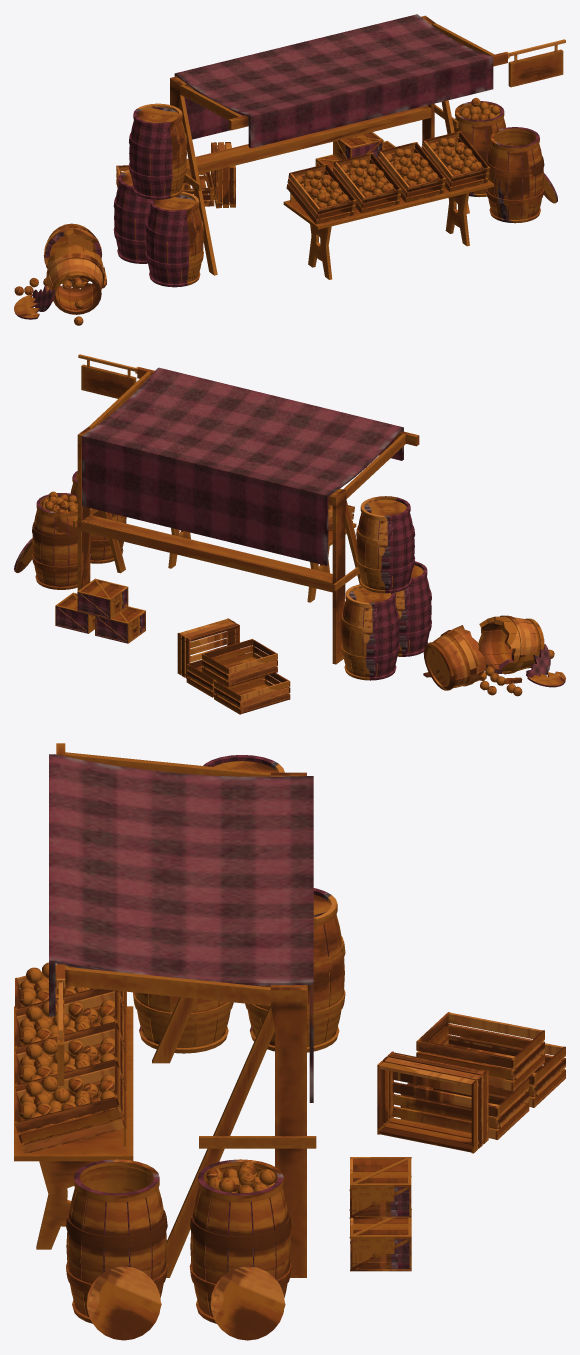
File: Concept_3.fbx
The picture shows the model from 3 angles, top to bottom: view 1: azimuth 30°, elevation 25°; view 2: azimuth 150°, elevation 25°; view 3: azimuth 270°, elevation 25°; orthographic projection. The views are drawn at different scales.
Visible parts, largest first — view 1: Cube.110, Circle.068, Circle.073, Circle.067, Circle.071, Cube.109, Circle.066, Cube.111, Cube.122, Cube.124, Cube.126, Circle.069 (+6 smaller); view 2: Cube.110, Circle.071, Circle.068, Circle.066, Circle.069, Cube.115, Circle.067, Cube.114, Cube.112, Cube.111, Cube.118, Cube.120 (+6 smaller); view 3: Cube.110, Circle.073, Circle.069, Cube.112, Cube.115, Cube.109, Circle.066, Cube.128, Circle.070, Circle.074, Circle.067, Cube.113 (+10 smaller).
Part boxes in pixels (x1,y1,x2,y2): Cube.110: (170, 14, 507, 275); Circle.068: (129, 103, 187, 199); Circle.073: (486, 127, 544, 223); Circle.067: (145, 191, 203, 287); Circle.071: (43, 223, 106, 314); Cube.109: (283, 180, 493, 279); Circle.066: (113, 170, 150, 263); Cube.111: (505, 39, 565, 87); Cube.122: (286, 163, 356, 224); Cube.124: (333, 152, 401, 213); Cube.126: (377, 142, 446, 202); Circle.069: (453, 101, 505, 197); Cube.110: (73, 367, 419, 664); Circle.071: (423, 615, 544, 690); Circle.068: (356, 496, 415, 593); Circle.066: (341, 584, 399, 680); Circle.069: (32, 493, 90, 589); Cube.115: (202, 639, 277, 687); Circle.067: (395, 561, 431, 656); Cube.114: (214, 673, 290, 714); Cube.112: (177, 618, 239, 678); Cube.111: (78, 354, 139, 398); Cube.118: (95, 611, 145, 643); Cube.120: (77, 587, 128, 619); Cube.110: (49, 743, 316, 1277); Circle.073: (66, 1159, 167, 1323); Circle.069: (189, 1159, 291, 1323); Cube.112: (377, 1051, 488, 1153); Cube.115: (416, 1012, 544, 1091); Cube.109: (14, 1006, 133, 1249); Circle.066: (245, 888, 345, 1052); Cube.128: (15, 1065, 126, 1153); Circle.070: (210, 1266, 284, 1340); Circle.074: (86, 1266, 160, 1340); Circle.067: (133, 992, 233, 1053); Cube.113: (400, 1078, 529, 1139).
Size of the model in its own units: 365 by 122 by 193.
